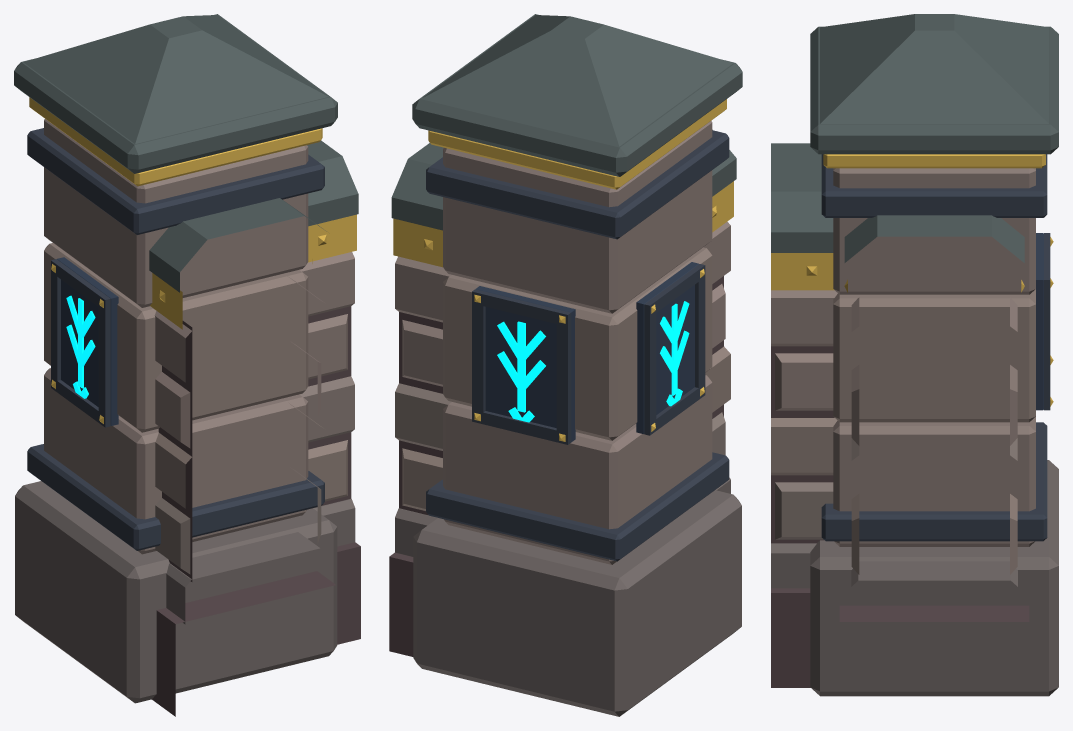
Rendered from stone_wall_corner.glb.
3 views of the same model, side by side, from view 1: azimuth 30°, elevation 25°; view 2: azimuth 150°, elevation 25°; view 3: azimuth 270°, elevation 25° (orthographic). The views are drawn at different scales.
Parts seen in each view (by area): view 1: body, glow_runes; view 2: body, glow_runes; view 3: body.
Boxes of the visible parts, x1,y1,x2,y2 form: body: (14, 14, 360, 716); glow_runes: (66, 295, 95, 398); body: (389, 14, 742, 716); glow_runes: (497, 301, 689, 422); body: (771, 14, 1058, 696).
Bounding box in the file's own units: 0.88 × 2.11 × 0.88.
